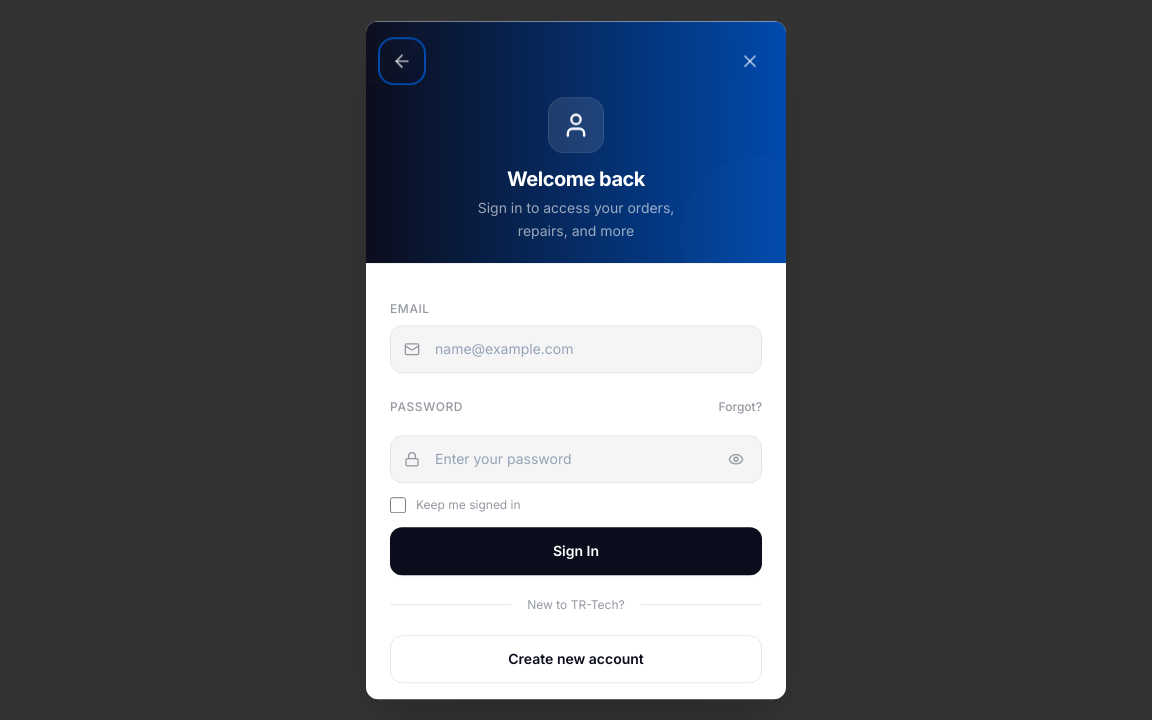
Test: AuthModal › switches back to login from register
Click the button with test id "auth-switch-mode": coordinates (576, 659) [390,635,762,683]
(page scrolled)
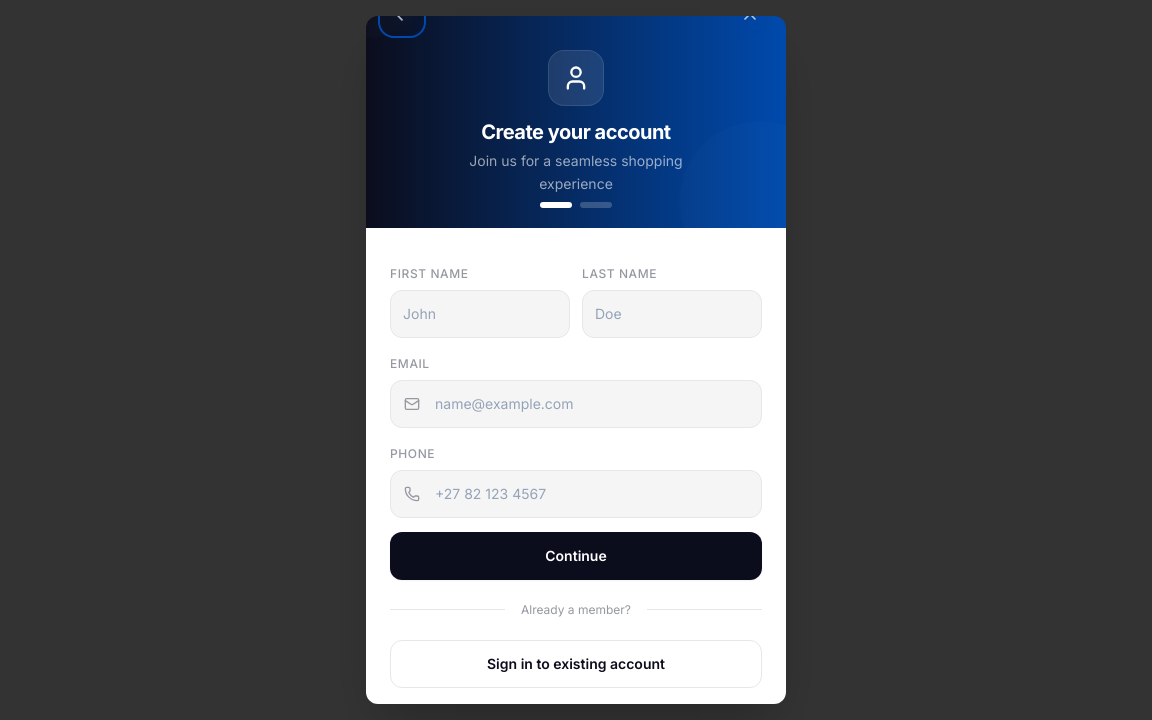
Click the button with test id "auth-switch-mode": coordinates (576, 664) [390,640,762,688]
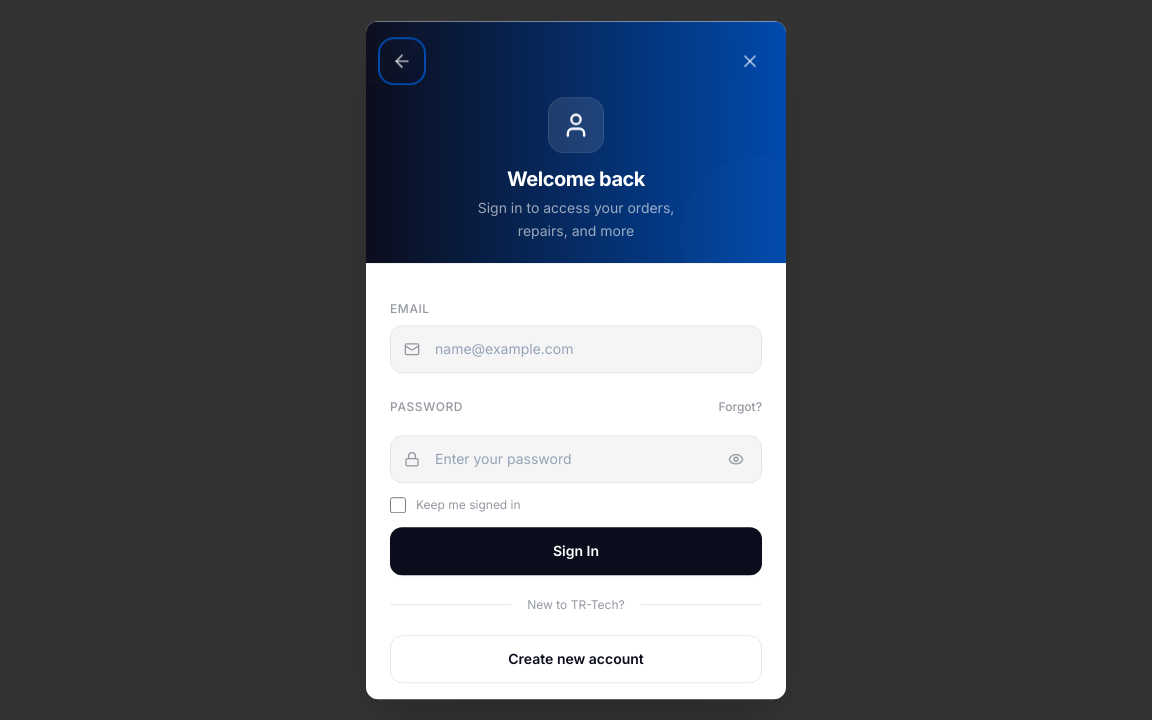
Check: the field with test id "auth-email" is shown, box [390,325,762,373]
Check: the password field with test id "auth-password" is shown, box [390,435,762,483]
Check: the field with test id "auth-firstName" is gone
